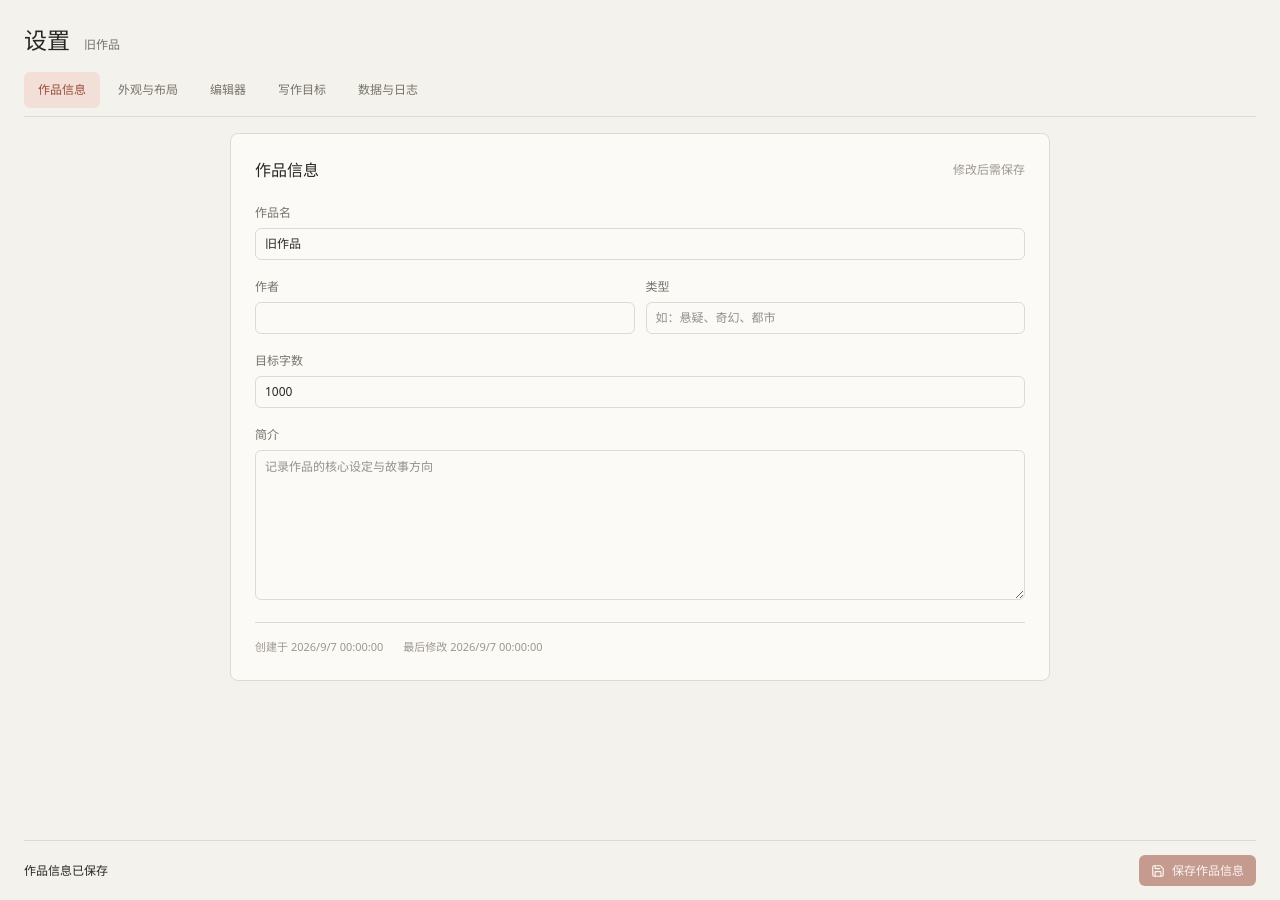
Test case: preserves inputs on save failure and allows a successful retry
Replace the text in the field labelled "作品名" with "新作品" at (640, 244), box [255,228,1025,260]
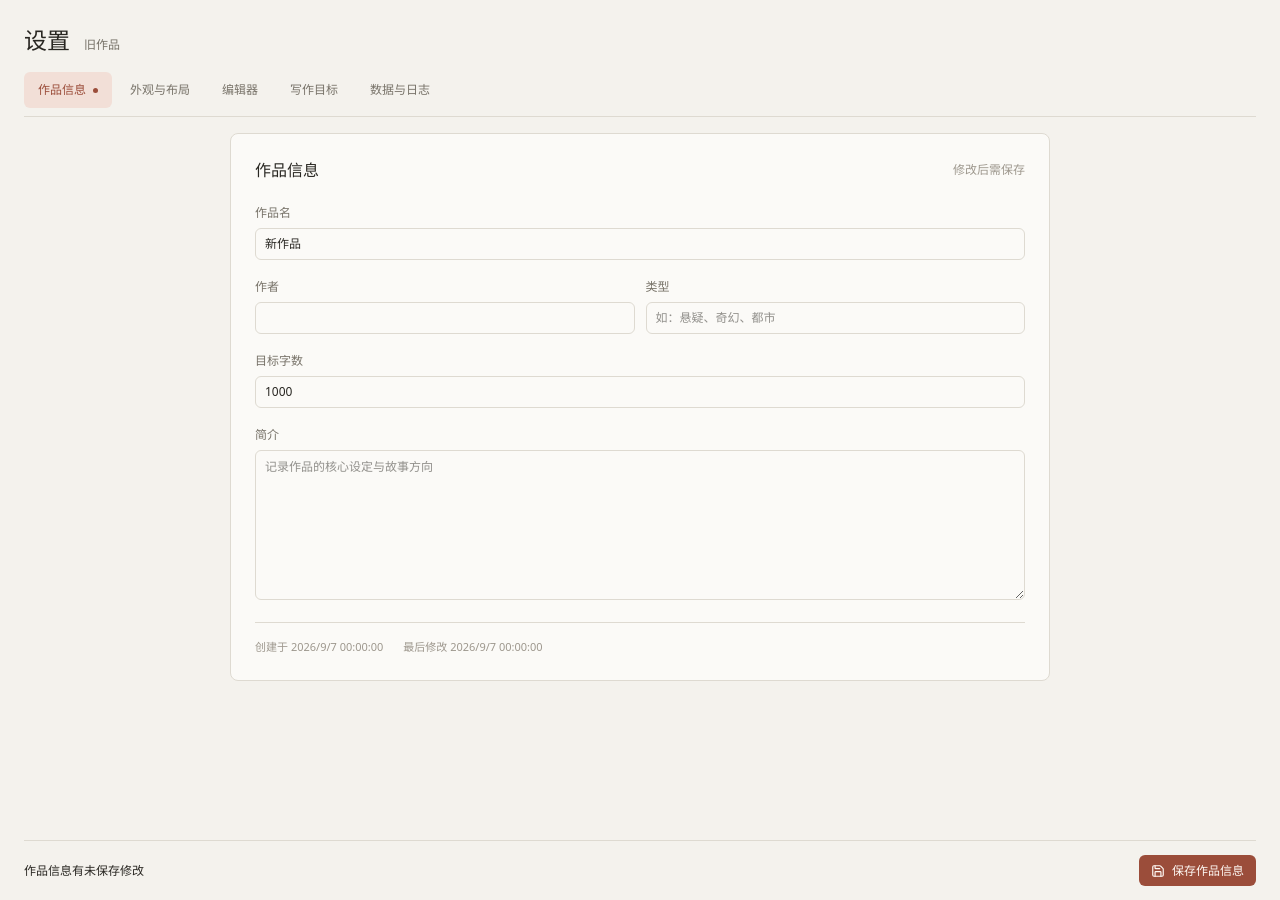
Click the button "保存作品信息" at (1198, 870), box [1139,855,1256,886]
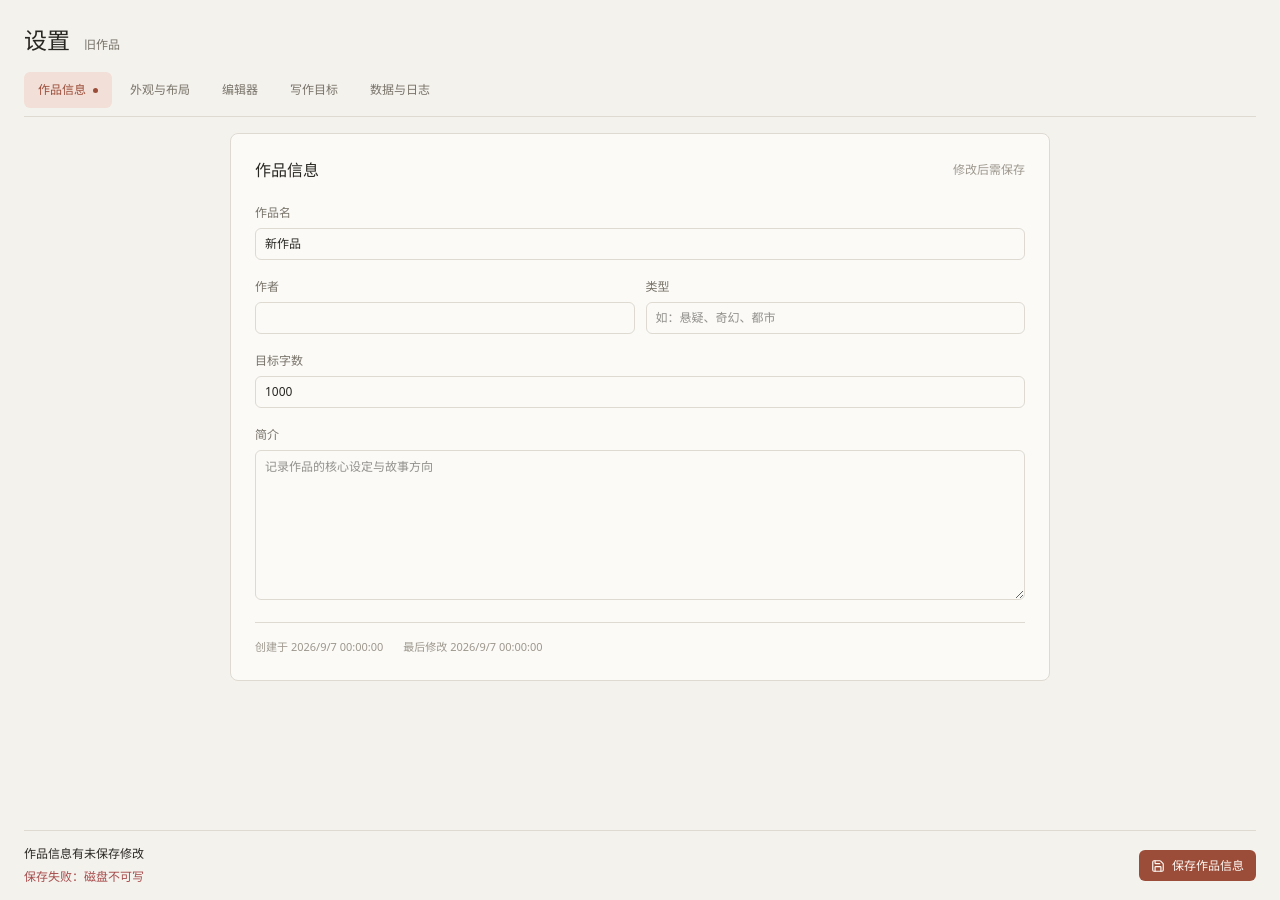
Expected: the message "保存失败：磁盘不可写" is shown, [24,868,144,886]
Click the button "保存作品信息" at (1198, 866), box [1139,850,1256,881]
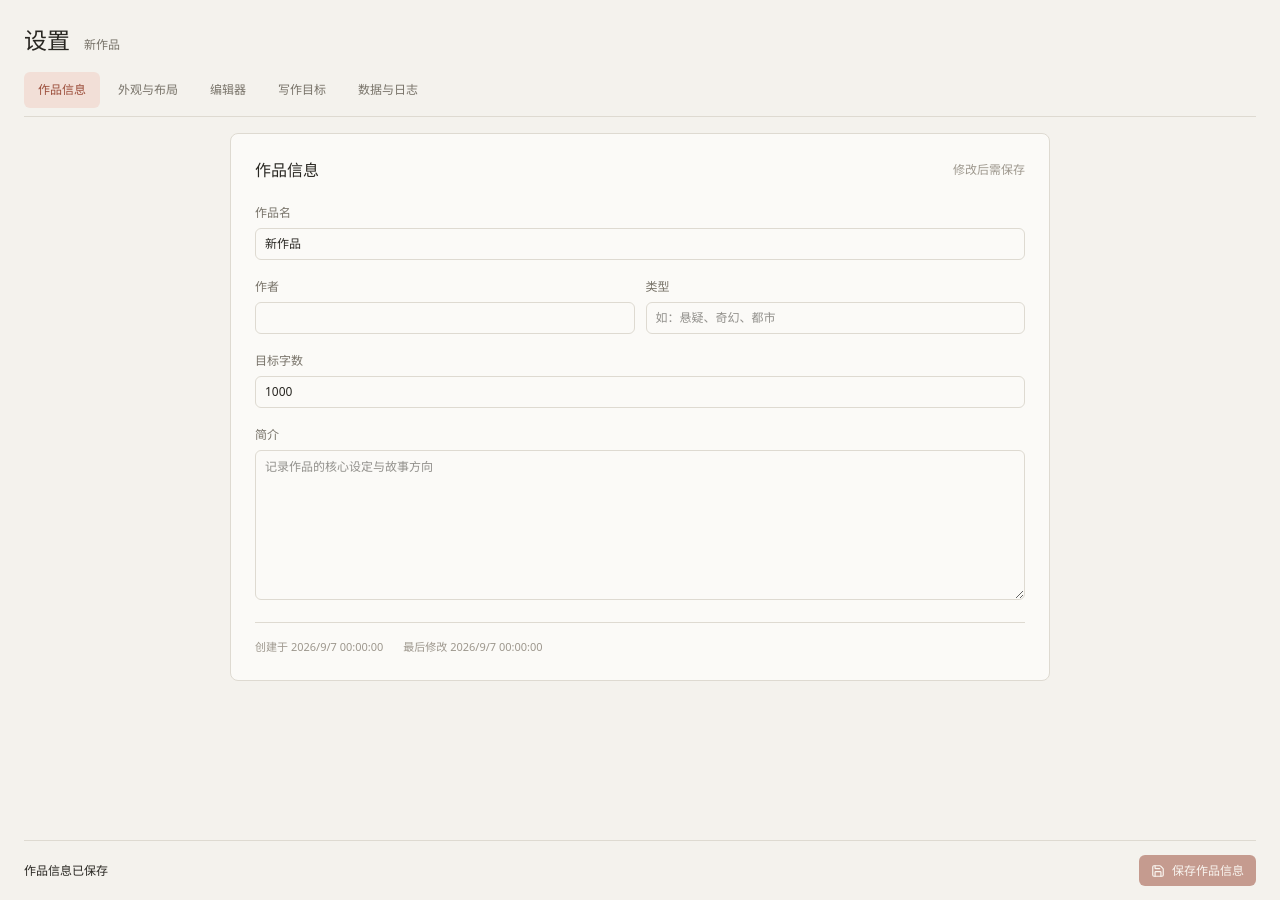
Expected: the text "作品信息已保存" is shown, [24,862,108,878]
